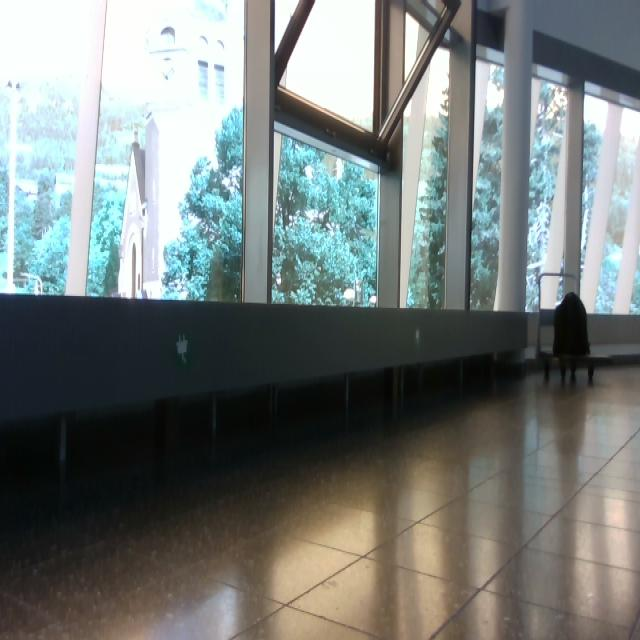light bulb: (334, 158, 345, 180), (304, 165, 314, 180)
pillar: (493, 1, 534, 312), (65, 1, 108, 296), (242, 1, 275, 304)
tiled floor: (2, 361, 639, 638)
window: (1, 1, 640, 318)
